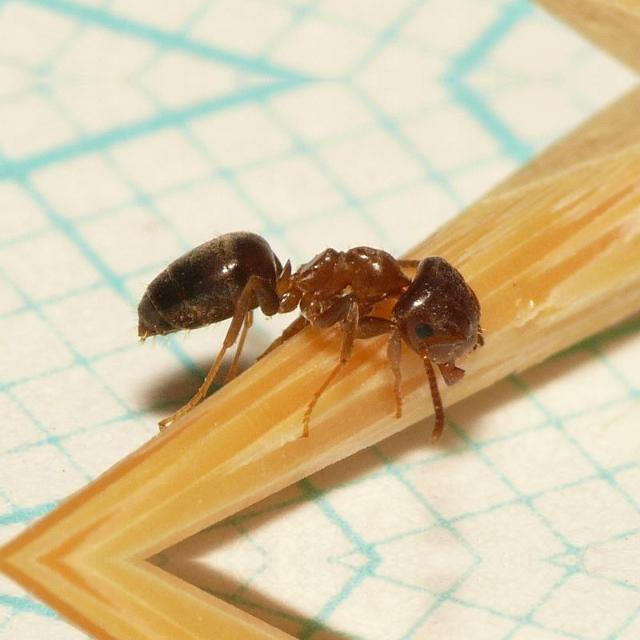Lasius: (140, 182, 504, 430)
